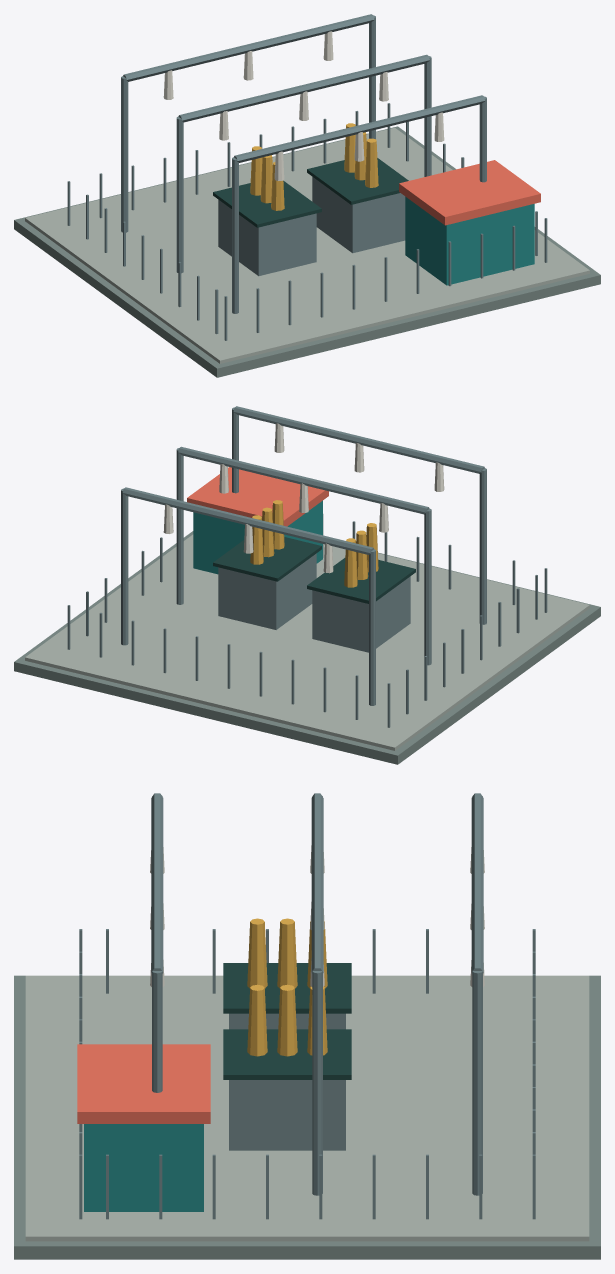
The model's file is substation_lv2.glb.
3 views of the same model, one above another, from view 1: azimuth 30°, elevation 25°; view 2: azimuth 150°, elevation 25°; view 3: azimuth 270°, elevation 25° (orthographic). The views are drawn at different scales.
Parts seen in each view (by area): view 1: concrete, steel, pavement, teal, coral, dark, gold, ivory; view 2: concrete, steel, pavement, dark, coral, teal, gold, ivory; view 3: concrete, steel, pavement, teal, coral, dark, gold, ivory.
Boxes of the visible parts, bbox=[...] form: concrete: bbox=[25, 127, 589, 363]; steel: bbox=[67, 14, 547, 340]; pavement: bbox=[14, 126, 600, 377]; teal: bbox=[405, 196, 534, 285]; coral: bbox=[399, 160, 540, 225]; dark: bbox=[213, 158, 408, 227]; gold: bbox=[250, 123, 378, 210]; ivory: bbox=[163, 31, 444, 180]; concrete: bbox=[25, 534, 589, 750]; steel: bbox=[67, 406, 547, 727]; pavement: bbox=[14, 531, 600, 764]; dark: bbox=[213, 537, 415, 603]; coral: bbox=[187, 467, 328, 526]; teal: bbox=[193, 500, 322, 574]; gold: bbox=[250, 500, 378, 587]; ivory: bbox=[163, 423, 444, 573]; concrete: bbox=[25, 975, 589, 1241]; steel: bbox=[79, 793, 535, 1219]; pavement: bbox=[14, 975, 600, 1259]; teal: bbox=[84, 1124, 203, 1211]; coral: bbox=[77, 1044, 210, 1123]; dark: bbox=[223, 963, 351, 1079]; gold: bbox=[247, 918, 327, 1056]; ivory: bbox=[150, 845, 484, 986].
Size of the model in its own units: 9.6 by 4.03 by 8.8.
